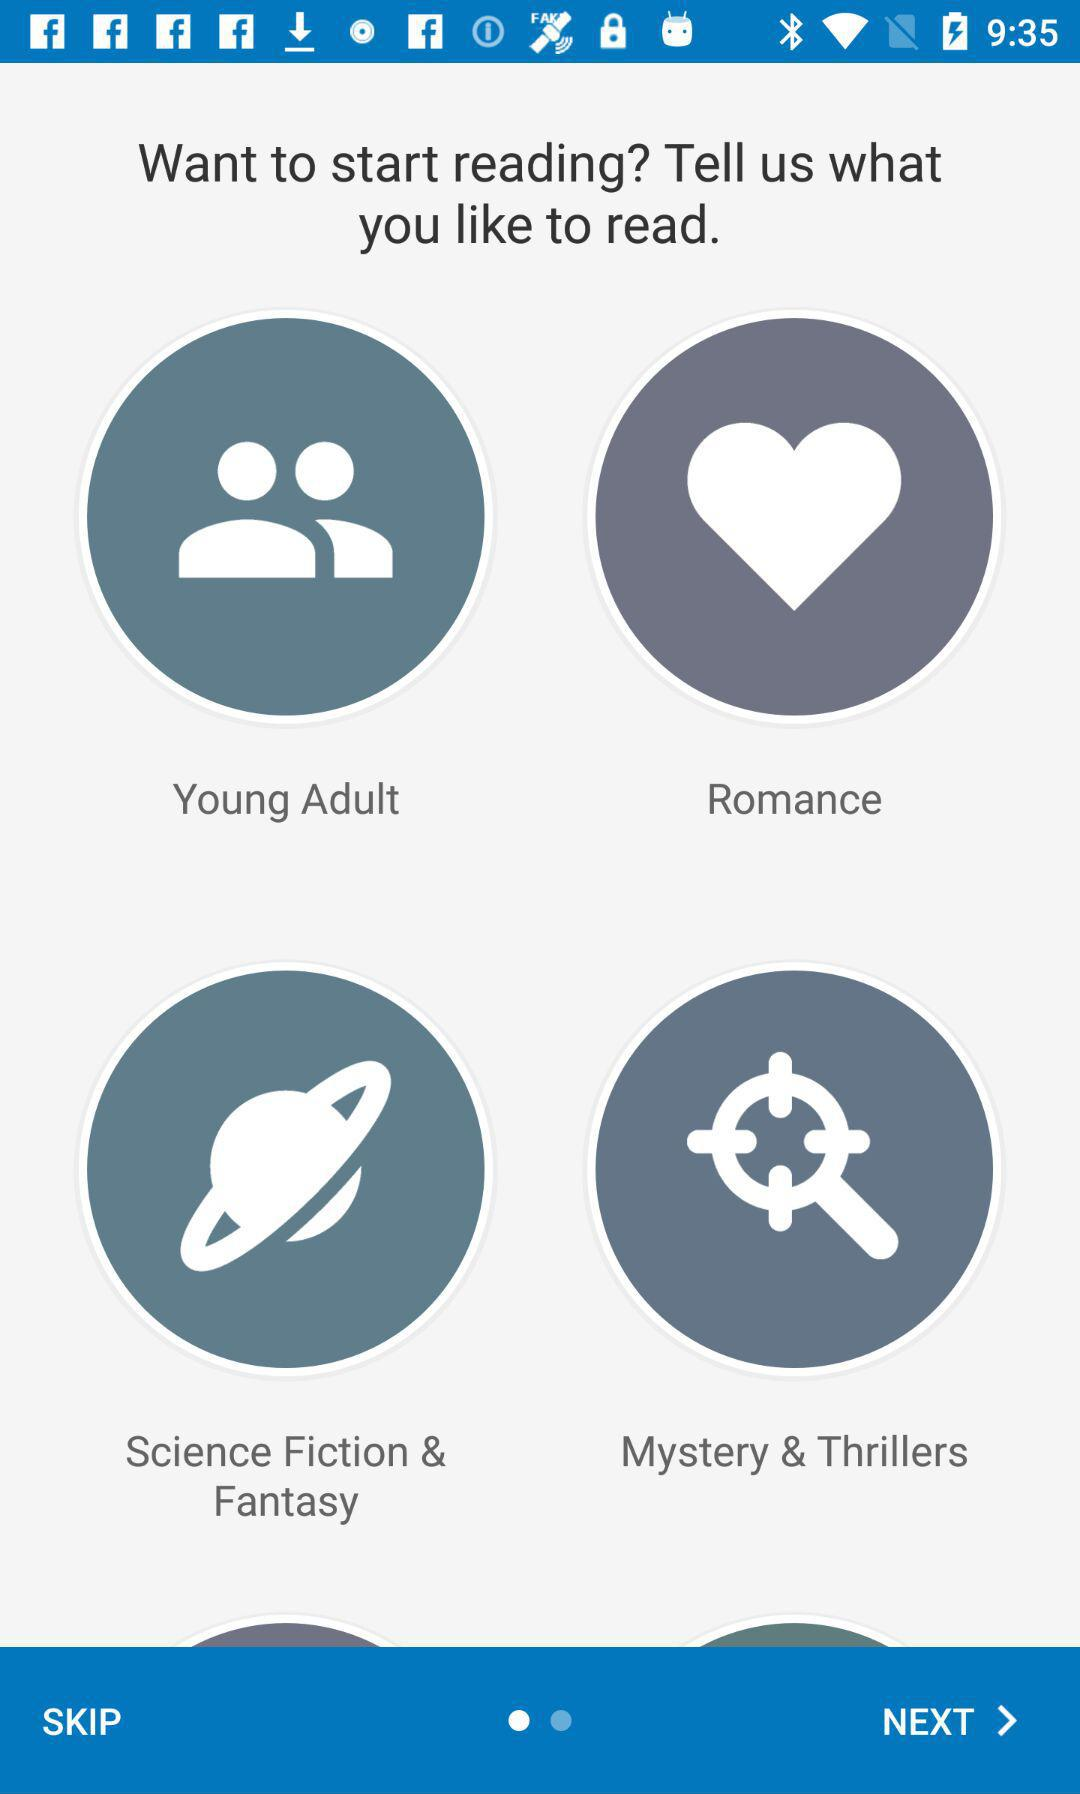Icon: (585, 309, 1004, 727), (995, 1703, 1019, 1738)
Image: (76, 959, 496, 1379), (584, 960, 1003, 1378), (76, 309, 495, 727)
PageIndicator: (507, 1708, 574, 1734)
Text: (138, 142, 942, 256), (126, 1433, 448, 1527), (623, 1433, 969, 1477), (172, 780, 402, 825), (708, 783, 884, 818), (881, 1706, 976, 1738), (42, 1706, 123, 1738)
UpperTaskBar: (1, 1, 1080, 64)
